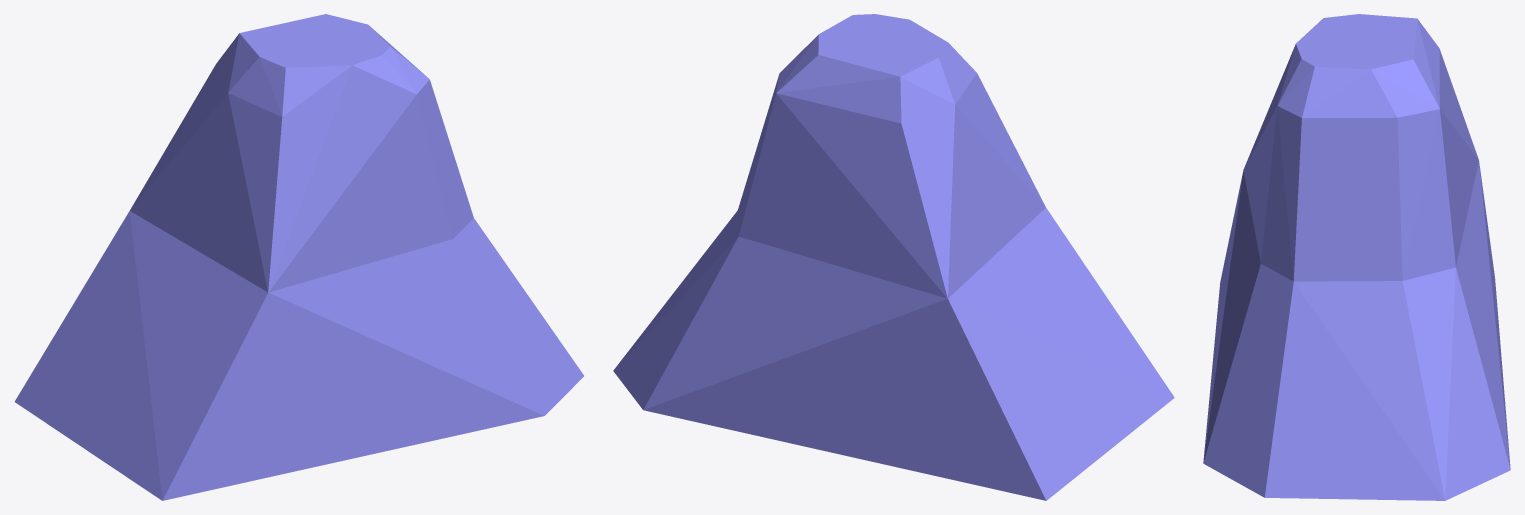
The model's file is Cliff_Sediment_01_Taper_Collider_01.FBX.
The picture shows the model from 3 angles, left to right: view 1: azimuth 30°, elevation 25°; view 2: azimuth 150°, elevation 25°; view 3: azimuth 270°, elevation 25°; orthographic projection.
Parts seen in each view (by area): view 1: COLLIDER1, COLLIDER2; view 2: COLLIDER1, COLLIDER2; view 3: COLLIDER1, COLLIDER2.
Boxes of the visible parts, x1,y1,x2,y2 form: COLLIDER1: (14, 211, 583, 500); COLLIDER2: (130, 14, 473, 292); COLLIDER1: (613, 208, 1174, 500); COLLIDER2: (737, 14, 1045, 298); COLLIDER1: (1203, 161, 1510, 500); COLLIDER2: (1243, 14, 1478, 281).
Bounding box in the file's own units: 337 × 246 × 196.
